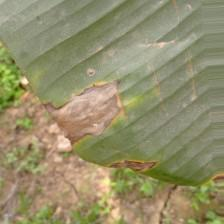cordana: (0, 0, 224, 187)
